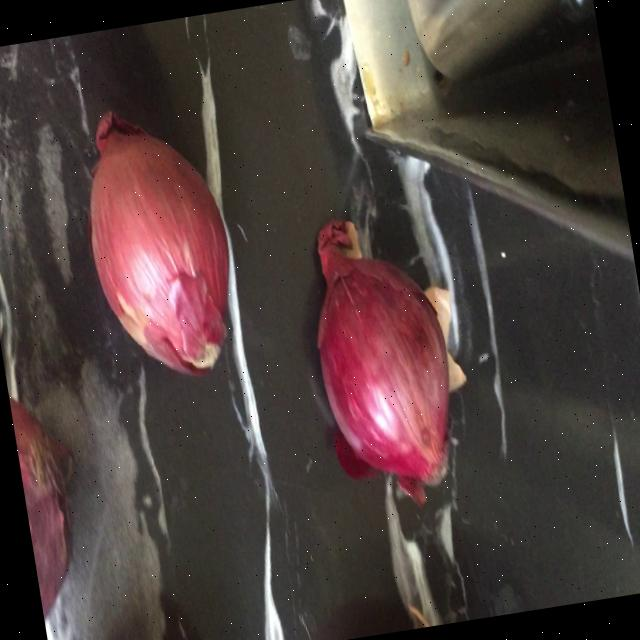Onion: (88, 110, 227, 375), (317, 240, 449, 493), (8, 398, 71, 620)
